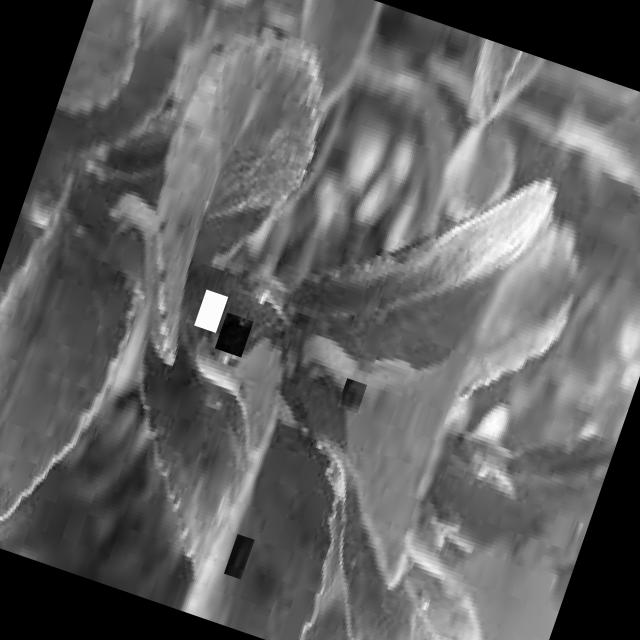scale_insect: (213, 312, 252, 357), (192, 288, 226, 332), (222, 532, 254, 578), (336, 378, 366, 412)
